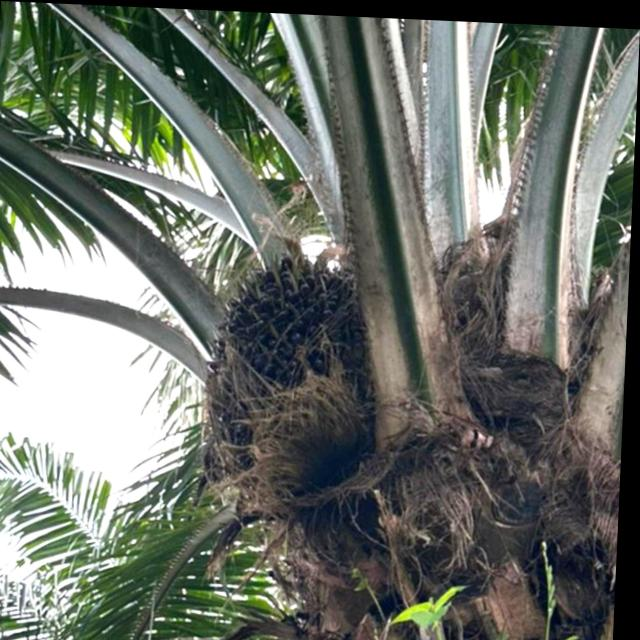almost: (195, 237, 388, 488)
